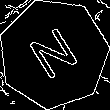N_SE: (23, 21, 84, 86)
